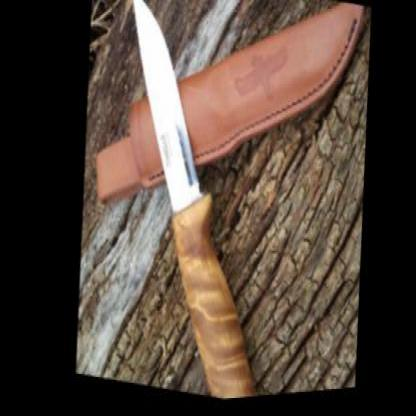knife: (95, 0, 233, 272)
